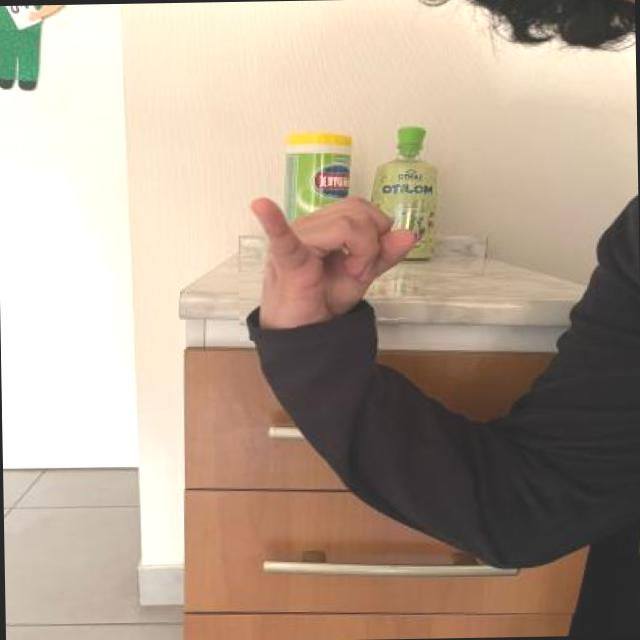I: (237, 176, 416, 340)
